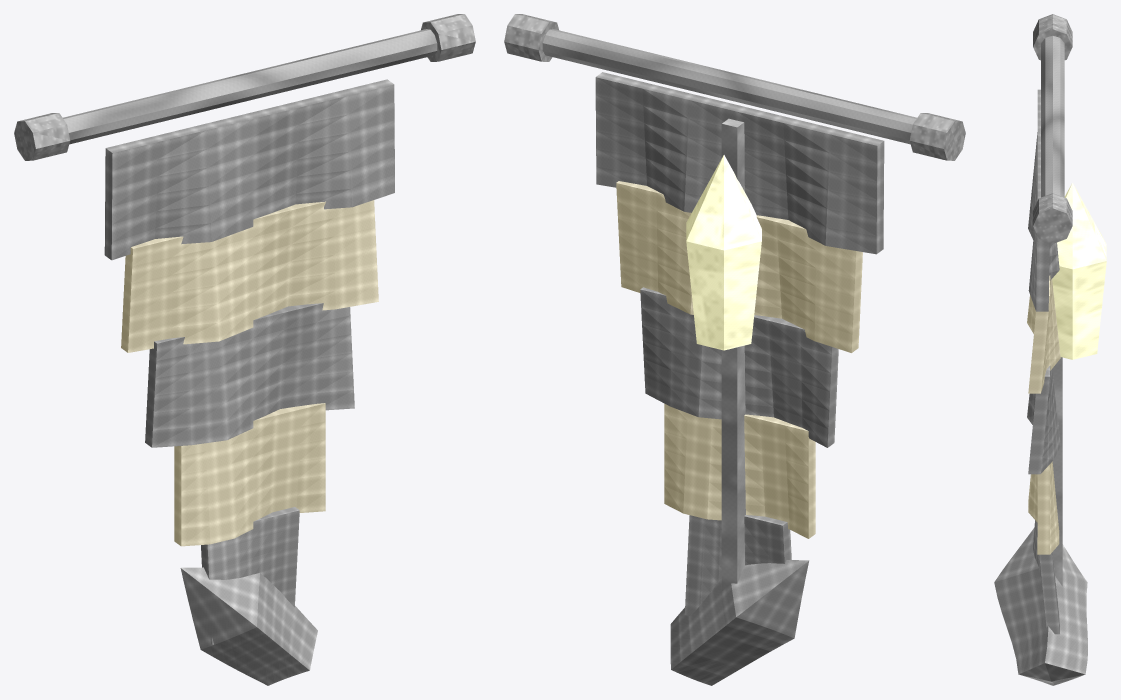
Rendered from crystal-banner-pennant-radiance.glb.
The picture shows the model from 3 angles, left to right: view 1: azimuth 30°, elevation 25°; view 2: azimuth 150°, elevation 25°; view 3: azimuth 270°, elevation 25°; orthographic projection. The views are drawn at different scales.
Parts seen in each view (by area): view 1: taper-0, taper-1, taper-2, taper-3, top-rod, lower-point, taper-4, left-cap, right-cap; view 2: taper-0, taper-1, taper-2, taper-3, lower-point, crystal-crest, top-rod, spine, taper-4, left-cap, right-cap; view 3: lower-point, crystal-crest, top-rod, taper-0, taper-2, taper-1, taper-3, right-cap, spine, taper-4, left-cap.
Boxes of the visible parts, x1,y1,x2,y2 form: taper-0: [104, 79, 394, 260]; taper-1: [121, 200, 378, 352]; taper-2: [145, 303, 354, 447]; taper-3: [174, 403, 325, 546]; top-rod: [63, 29, 437, 144]; lower-point: [180, 567, 317, 685]; taper-4: [201, 507, 299, 644]; left-cap: [14, 113, 70, 160]; right-cap: [421, 14, 475, 61]; taper-0: [595, 72, 884, 254]; taper-1: [616, 181, 862, 352]; taper-2: [640, 287, 838, 447]; taper-3: [664, 403, 815, 538]; lower-point: [670, 560, 809, 685]; crystal-crest: [686, 155, 761, 350]; top-rod: [542, 29, 916, 144]; spine: [721, 118, 745, 591]; taper-4: [684, 515, 791, 616]; left-cap: [909, 113, 965, 160]; right-cap: [504, 14, 558, 61]; lower-point: [994, 528, 1087, 685]; crystal-crest: [1052, 183, 1106, 359]; top-rod: [1041, 35, 1064, 197]; taper-0: [1028, 89, 1059, 311]; taper-2: [1027, 366, 1060, 474]; taper-1: [1027, 275, 1060, 393]; taper-3: [1028, 461, 1059, 554]; right-cap: [1033, 193, 1072, 243]; spine: [1052, 357, 1062, 586]; taper-4: [1033, 520, 1059, 634]; left-cap: [1033, 14, 1072, 60].
Bounding box in the file's own units: 1.28 × 1.73 × 0.3135.
Materials: 5 (5 with a texture image).
